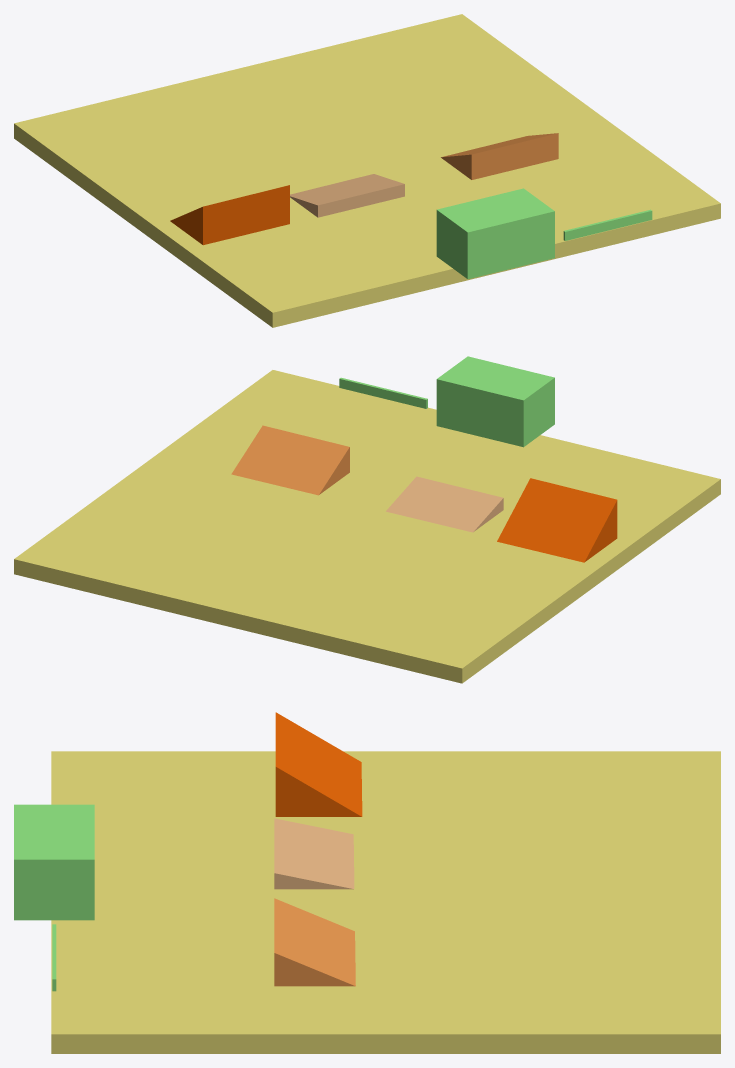
File: prac_stage3.fbx
3 views of the same model, one above another, from view 1: azimuth 30°, elevation 25°; view 2: azimuth 150°, elevation 25°; view 3: azimuth 270°, elevation 25° (orthographic). The views are drawn at different scales.
Parts seen in each view (by area): view 1: 立方体, 立方体.001, 立方体.005, 立方体.002, 立方体.004, 立方体.003; view 2: 立方体, 立方体.001, 立方体.005, 立方体.002, 立方体.004, 立方体.003; view 3: 立方体, 立方体.001, 立方体.005, 立方体.002, 立方体.004.
Part boxes in pixels (x1=…): 立方体: x1=14, y1=14, x2=720, y2=327; 立方体.001: x1=436, y1=188, x2=554, y2=279; 立方体.005: x1=170, y1=185, x2=289, y2=245; 立方体.002: x1=441, y1=133, x2=558, y2=179; 立方体.004: x1=290, y1=174, x2=404, y2=217; 立方体.003: x1=563, y1=209, x2=652, y2=240; 立方体: x1=14, y1=370, x2=720, y2=683; 立方体.001: x1=436, y1=356, x2=554, y2=447; 立方体.005: x1=497, y1=478, x2=617, y2=562; 立方体.002: x1=231, y1=425, x2=349, y2=495; 立方体.004: x1=386, y1=476, x2=503, y2=532; 立方体.003: x1=339, y1=377, x2=427, y2=408; 立方体: x1=51, y1=751, x2=720, y2=1053; 立方体.001: x1=14, y1=804, x2=94, y2=920; 立方体.005: x1=275, y1=712, x2=362, y2=816; 立方体.002: x1=274, y1=898, x2=355, y2=986; 立方体.004: x1=274, y1=818, x2=354, y2=889.
Bounding box in the file's own units: 1029 × 136 × 1087.
